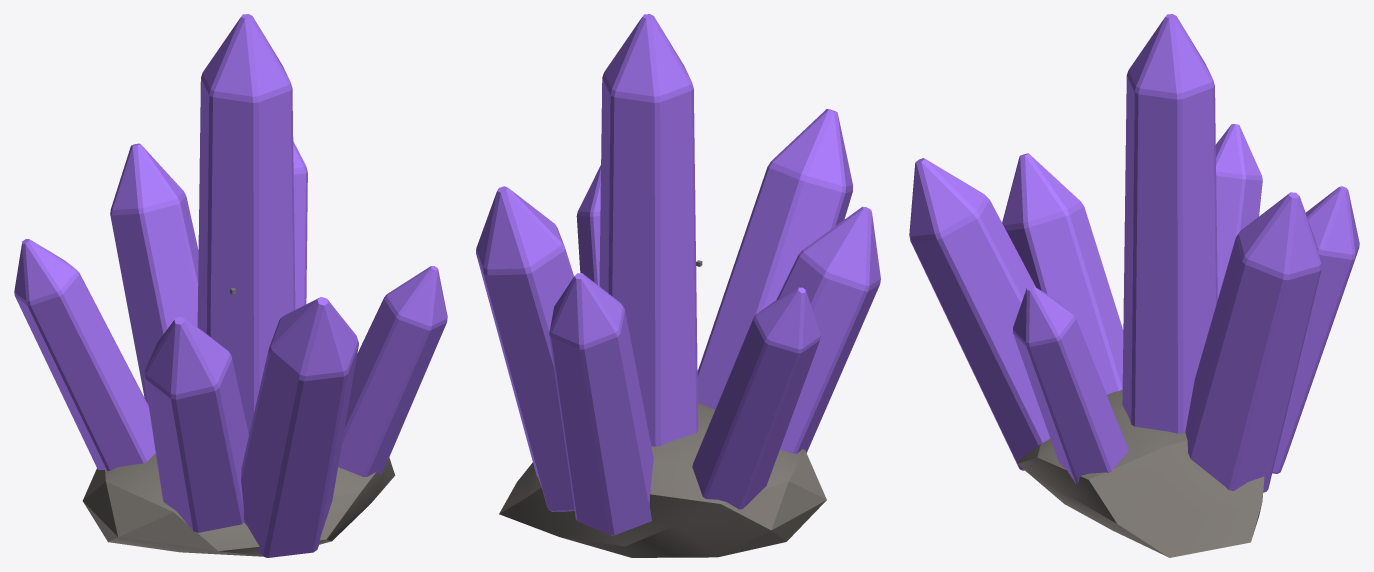
The model's file is CrystalCluster.fbx.
3 views of the same model, side by side, from view 1: azimuth 30°, elevation 25°; view 2: azimuth 150°, elevation 25°; view 3: azimuth 270°, elevation 25° (orthographic). The views are drawn at different scales.
Visible parts, largest first — view 1: CrystalCluster_Gem, CrystalCluster_Stone; view 2: CrystalCluster_Gem, CrystalCluster_Stone; view 3: CrystalCluster_Gem, CrystalCluster_Stone.
Part boxes in pixels (x1,y1,x2,y2): CrystalCluster_Gem: (14, 14, 447, 557); CrystalCluster_Stone: (82, 453, 395, 556); CrystalCluster_Gem: (476, 14, 880, 535); CrystalCluster_Stone: (499, 403, 826, 557); CrystalCluster_Gem: (909, 14, 1359, 492); CrystalCluster_Stone: (1017, 389, 1264, 557).
Size of the model in its own units: 329 by 486 by 407.
